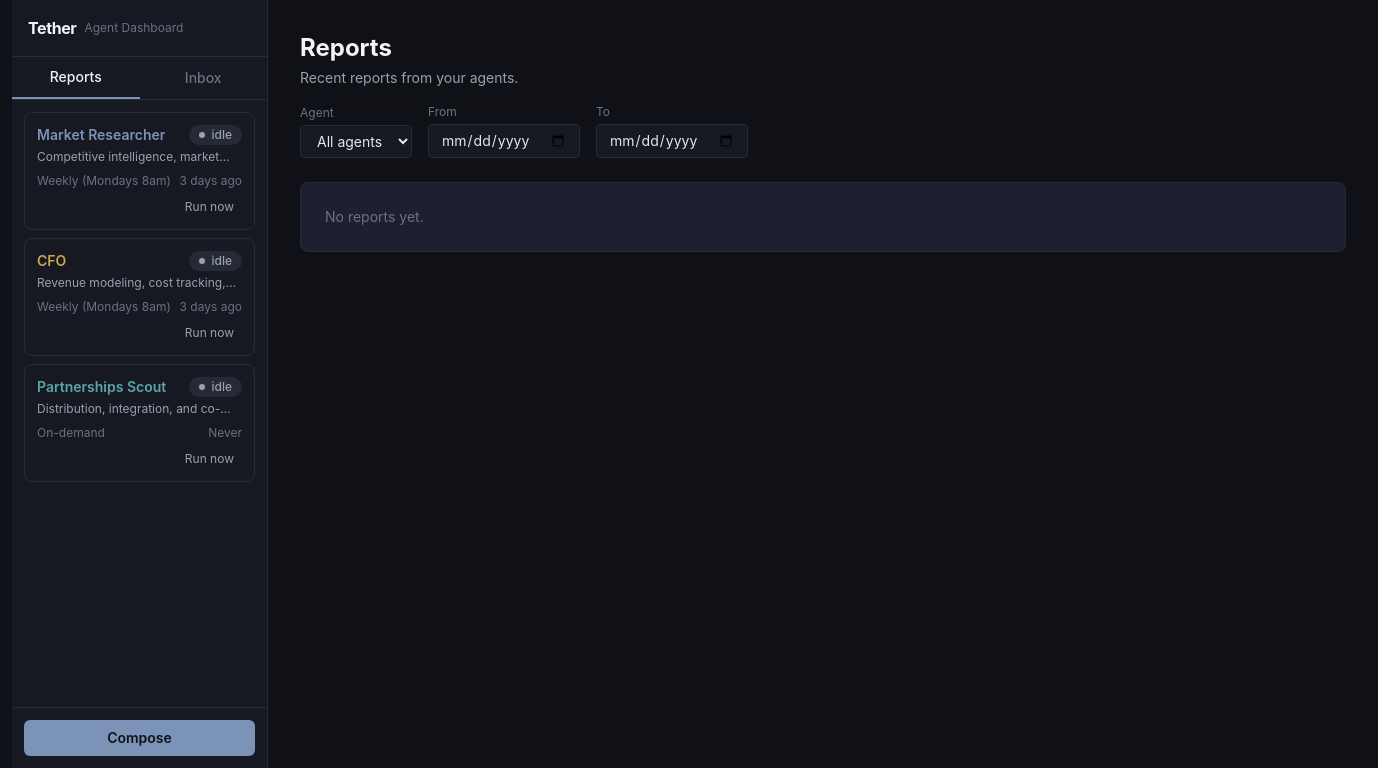
Scenario: App › shows agent detail when an agent is clicked
The width and height of the screenshot is (1378, 768).
Expected: the heading "Market Researcher" is shown, [37, 125, 165, 145]
Click the button with test id "agent-card-market-researcher".
click(140, 171)  # box [24, 112, 255, 230]
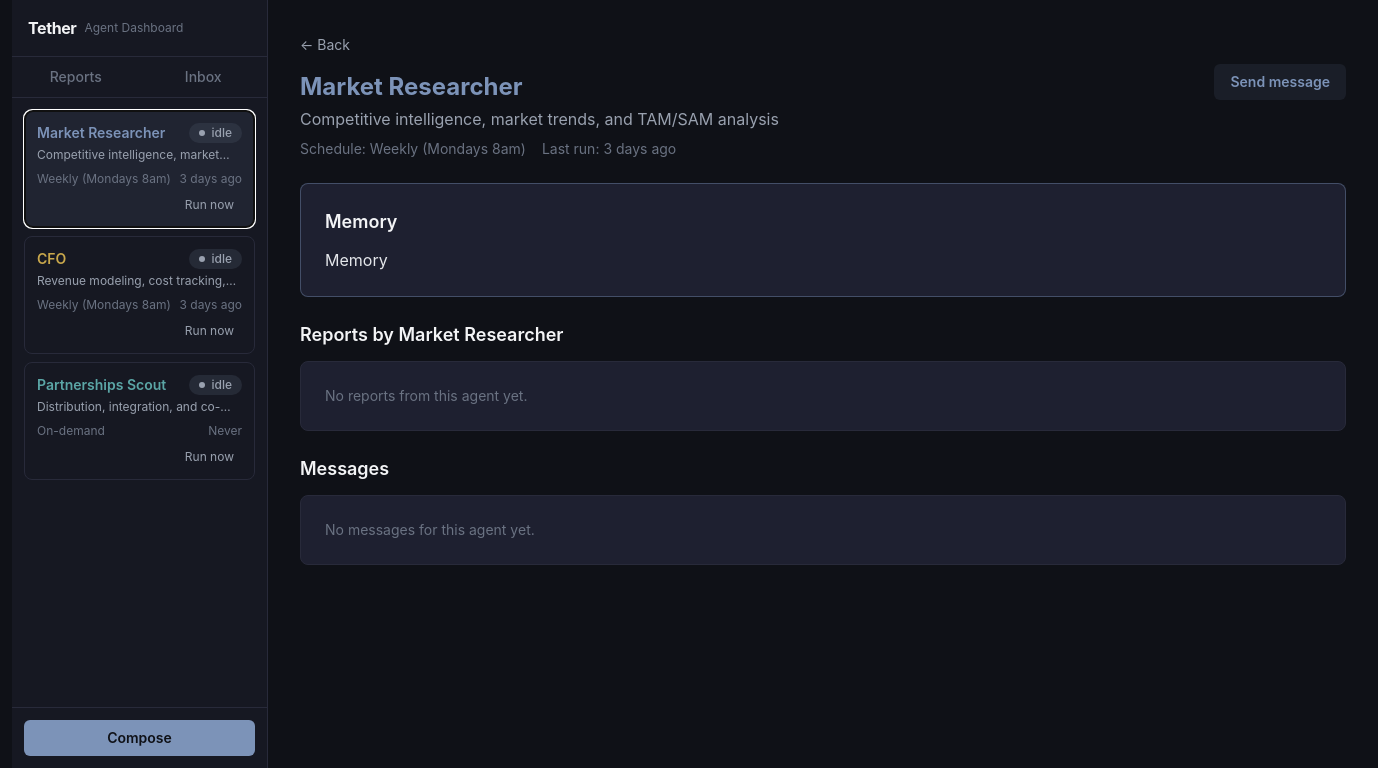
Now the element with test id "agent-detail" is shown
Now the element with test id "reports-feed" is gone
